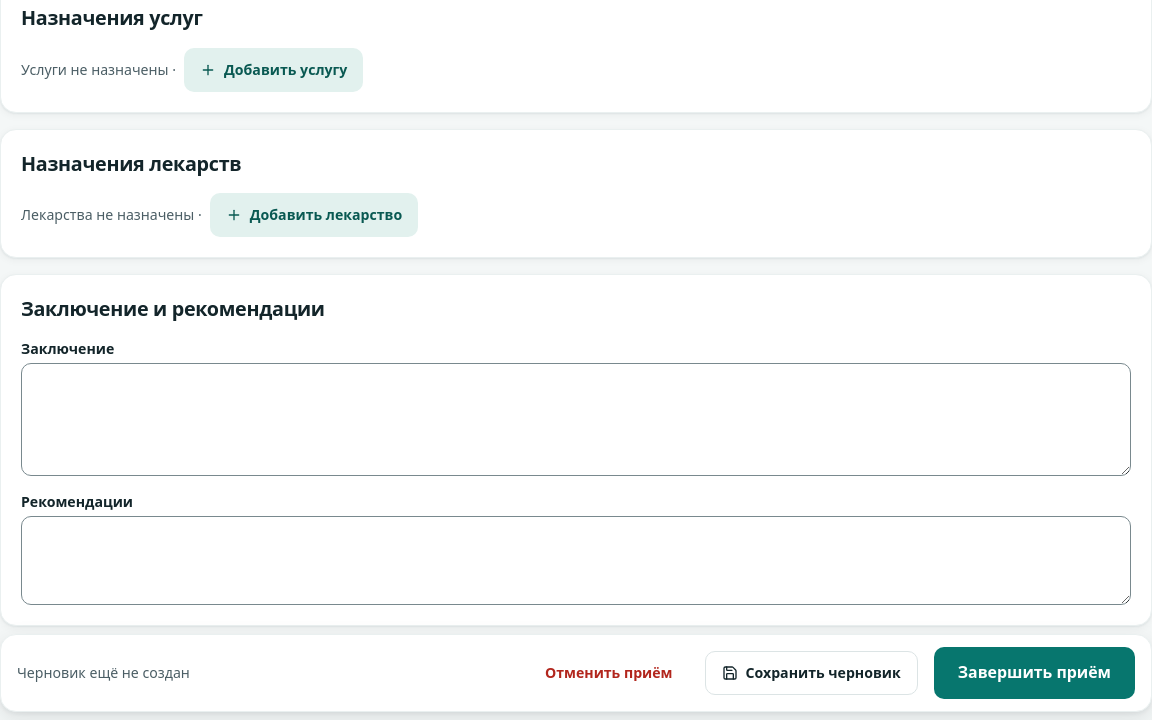
Test: EncounterCompleteForm draft (A8) › should save at once when «Сохранить черновик» is pressed
(page scrolled)
Type "ОРВИ" into the text box labelled "Заключение" at {"x": 576, "y": 419}, box [21,363,1131,476]
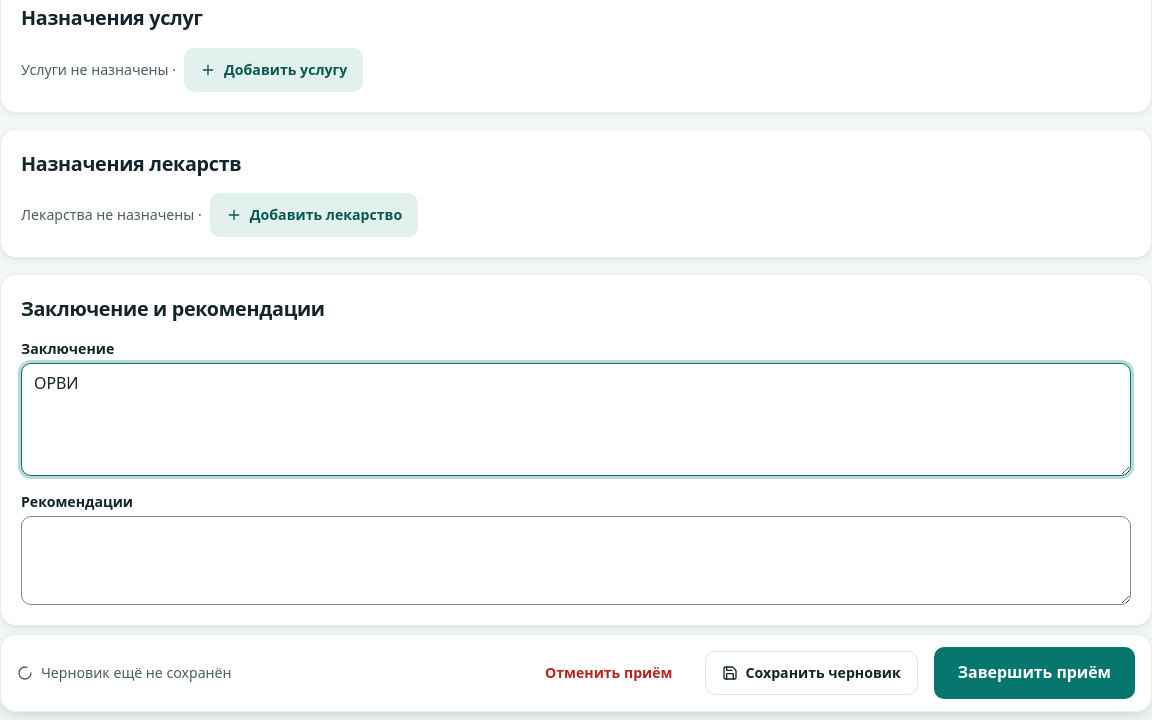
Click the button "Сохранить черновик" at {"x": 811, "y": 673}, box [704,651,918,695]
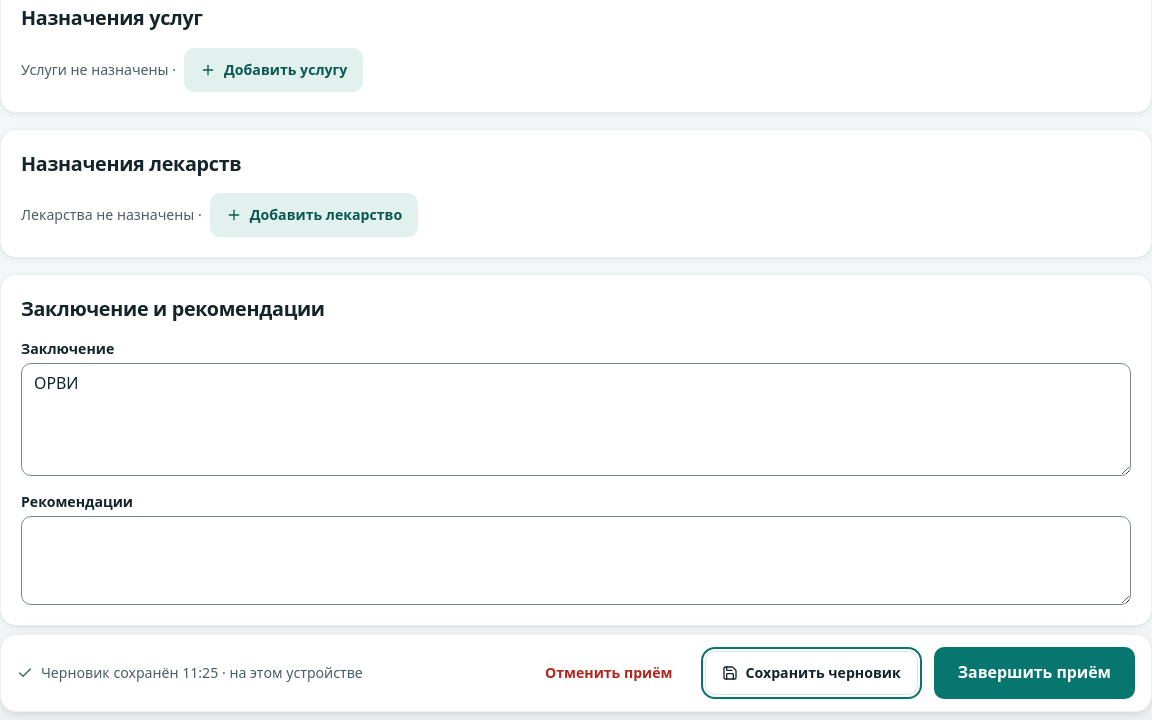
Expected: the text "Черновик сохранён 11:25 · на этом устройстве" is shown, [17,663,363,682]
